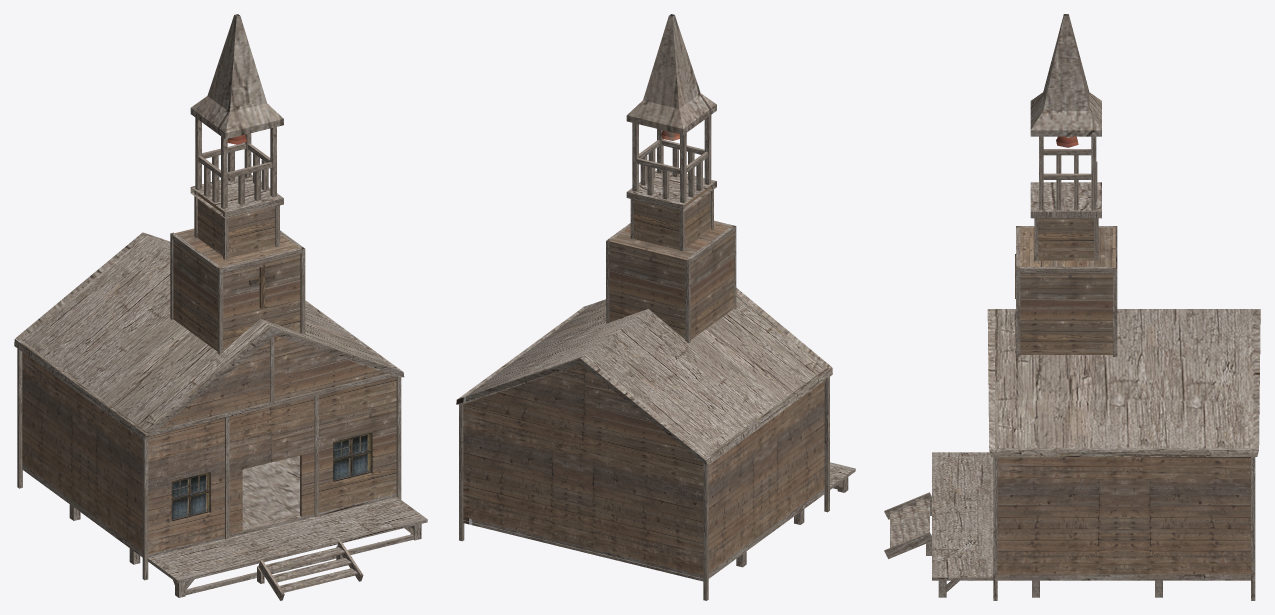
Rendered from church1.fbx.
3 views of the same model, side by side, from view 1: azimuth 30°, elevation 25°; view 2: azimuth 150°, elevation 25°; view 3: azimuth 270°, elevation 25° (orthographic). The views are drawn at different scales.
Visible parts, largest first — view 1: House5, Box397, Box372, Box427, Box394, Box435, Box384, Box371, Box405, Box422, Box378, Box399; view 2: House5, Box397, Box427, Box371, Box394, Box422, Box405; view 3: House5, Box397, Box372, Box427, Box405, Box371, Box394, Box384, Box422, Box403, Box390.
Part boxes in pixels (<box>): House5: <box>22,190,396,554</box>; Box397: <box>14,232,404,440</box>; Box372: <box>148,497,427,583</box>; Box427: <box>190,14,283,139</box>; Box394: <box>17,337,401,580</box>; Box435: <box>147,455,397,561</box>; Box384: <box>266,547,358,592</box>; Box371: <box>22,463,396,557</box>; Box405: <box>190,174,283,218</box>; Box422: <box>195,118,276,208</box>; Box378: <box>185,534,414,595</box>; Box399: <box>217,267,223,354</box>; House5: <box>463,183,824,575</box>; Box397: <box>456,288,832,465</box>; Box427: <box>626,14,716,134</box>; Box371: <box>463,488,824,581</box>; Box394: <box>459,377,829,600</box>; Box422: <box>632,115,711,202</box>; Box405: <box>626,170,716,211</box>; House5: <box>997,218,1250,574</box>; Box397: <box>987,309,1260,456</box>; Box372: <box>932,452,993,580</box>; Box427: <box>1030,14,1101,136</box>; Box405: <box>1030,182,1101,218</box>; Box371: <box>997,574,1250,580</box>; Box394: <box>993,457,1255,600</box>; Box384: <box>890,499,929,547</box>; Box422: <box>1039,136,1096,210</box>; Box403: <box>1020,267,1112,272</box>; Box390: <box>884,532,931,558</box>.
Bounding box in the file's own units: 347 × 652 × 423.
